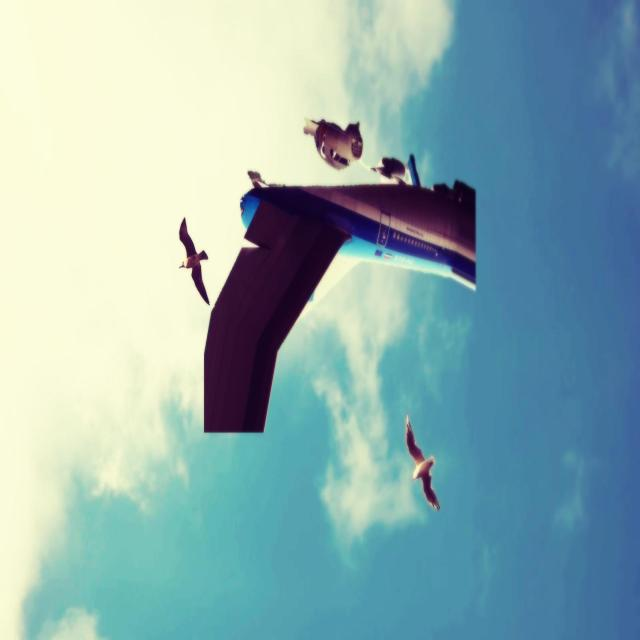airplane: (203, 183, 477, 433), (306, 117, 418, 182)
